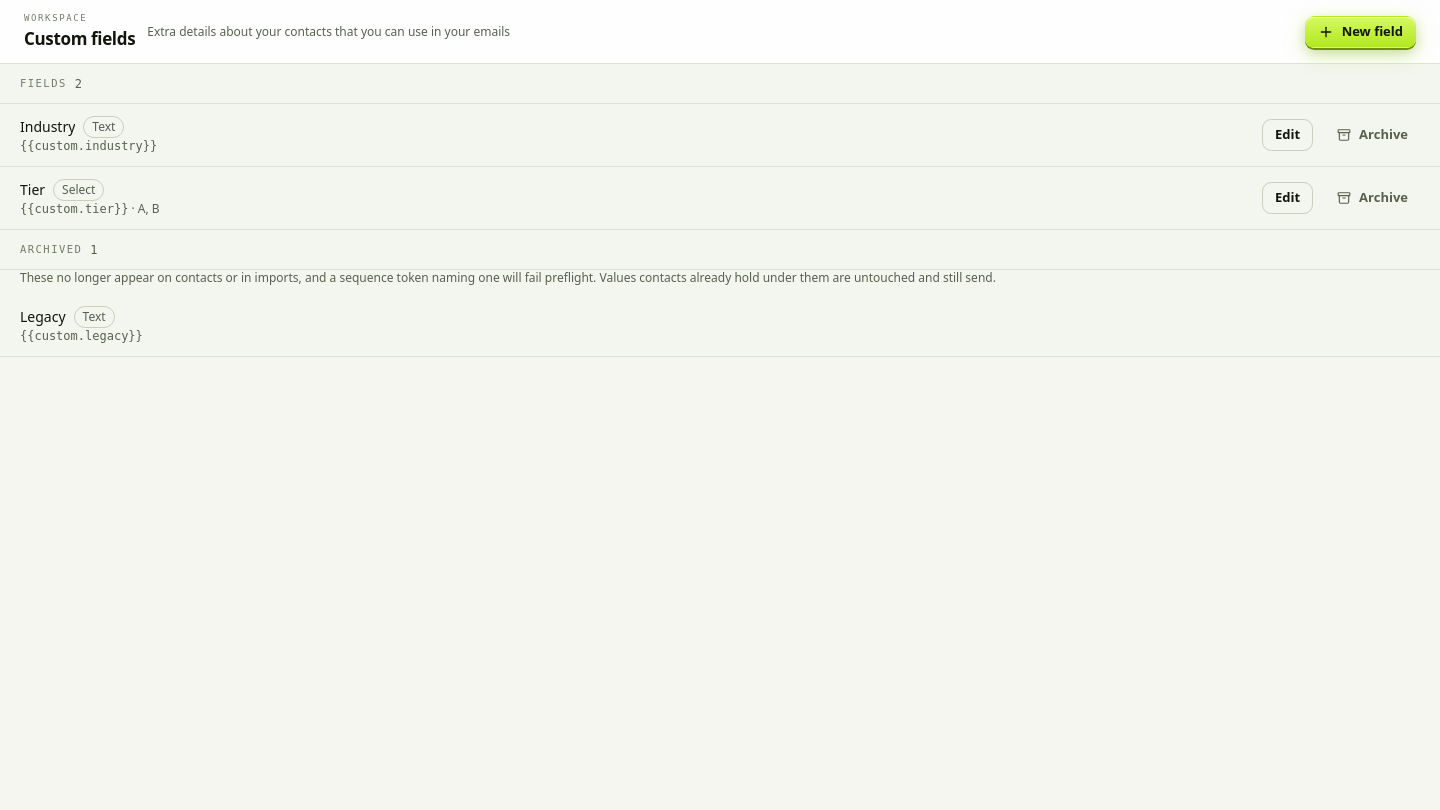
archiving explains that values survive and the key stays reserved
The image size is (1440, 810).
Click the button "Archive" in the row of "{{custom.industry}}" at {"x": 1373, "y": 135}, box [1325, 119, 1420, 151]
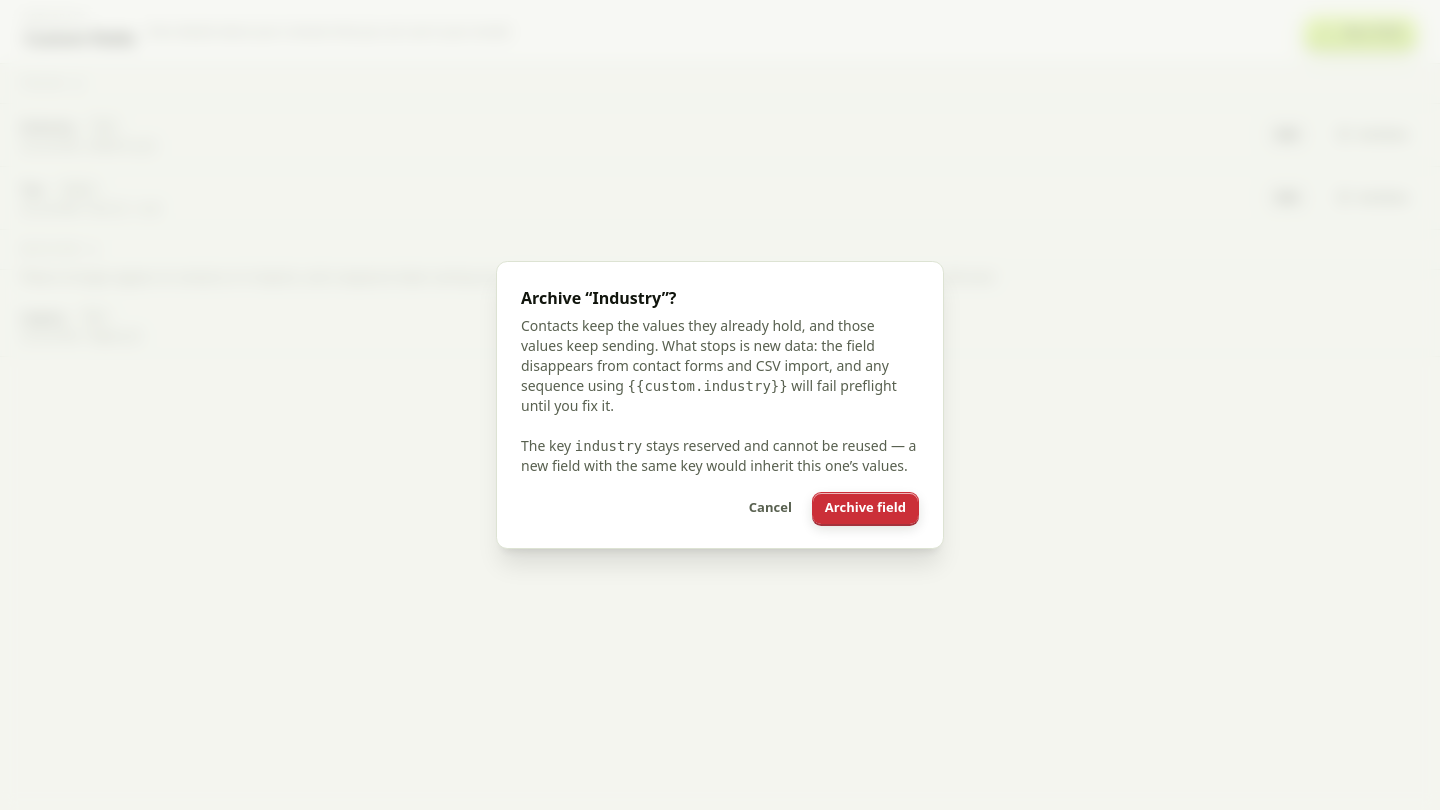
expect the heading "Archive “Industry”?" is shown: met, box [521, 287, 676, 309]
expect the text "keep the values they already hold" is shown: met, box [521, 316, 889, 395]
expect the text "cannot be reused" is shown: met, box [521, 436, 916, 475]
Click the button "Archive field" at {"x": 865, "y": 508}, box [812, 492, 919, 524]
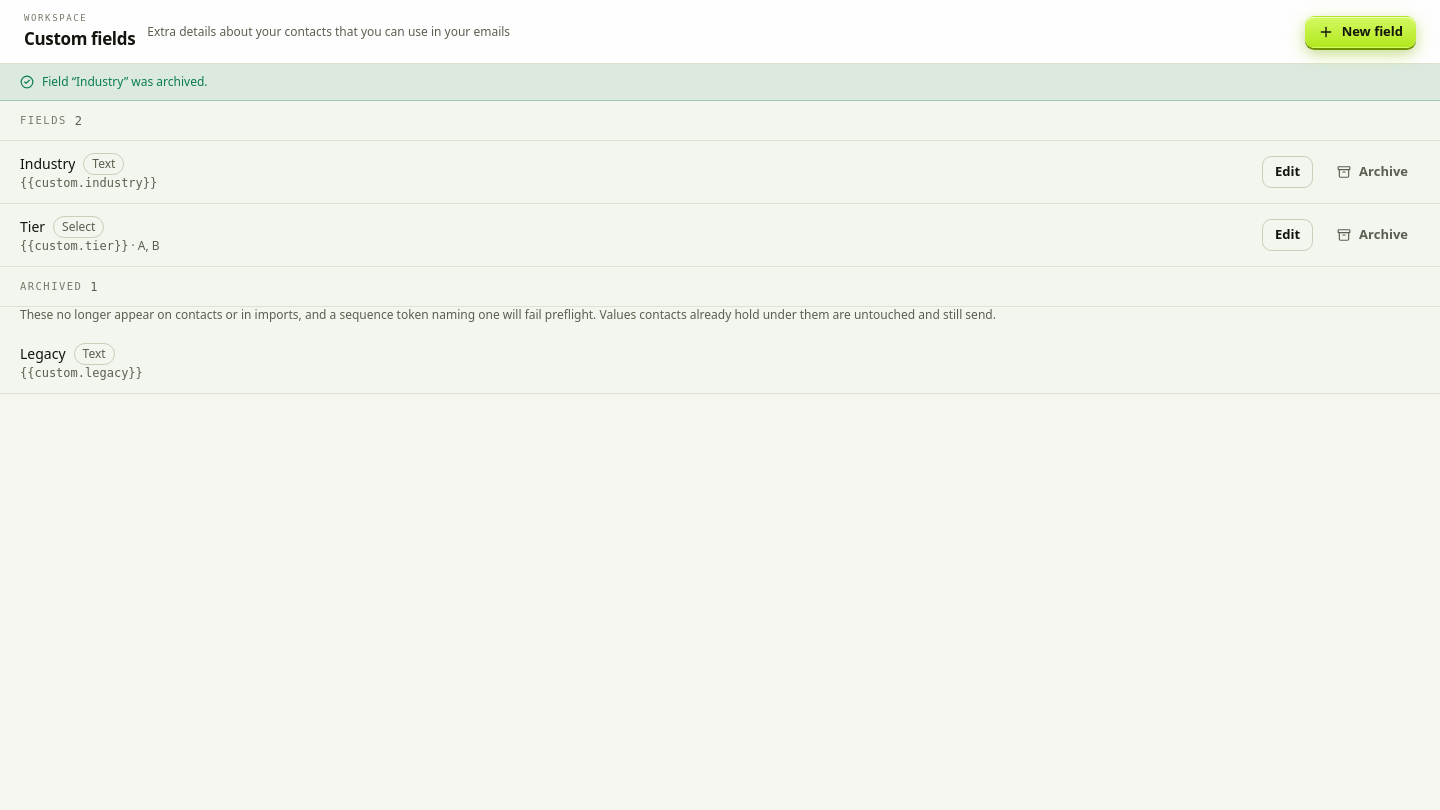
expect the text "Field “Industry” was archived." is shown: met, box [0, 64, 1439, 101]
